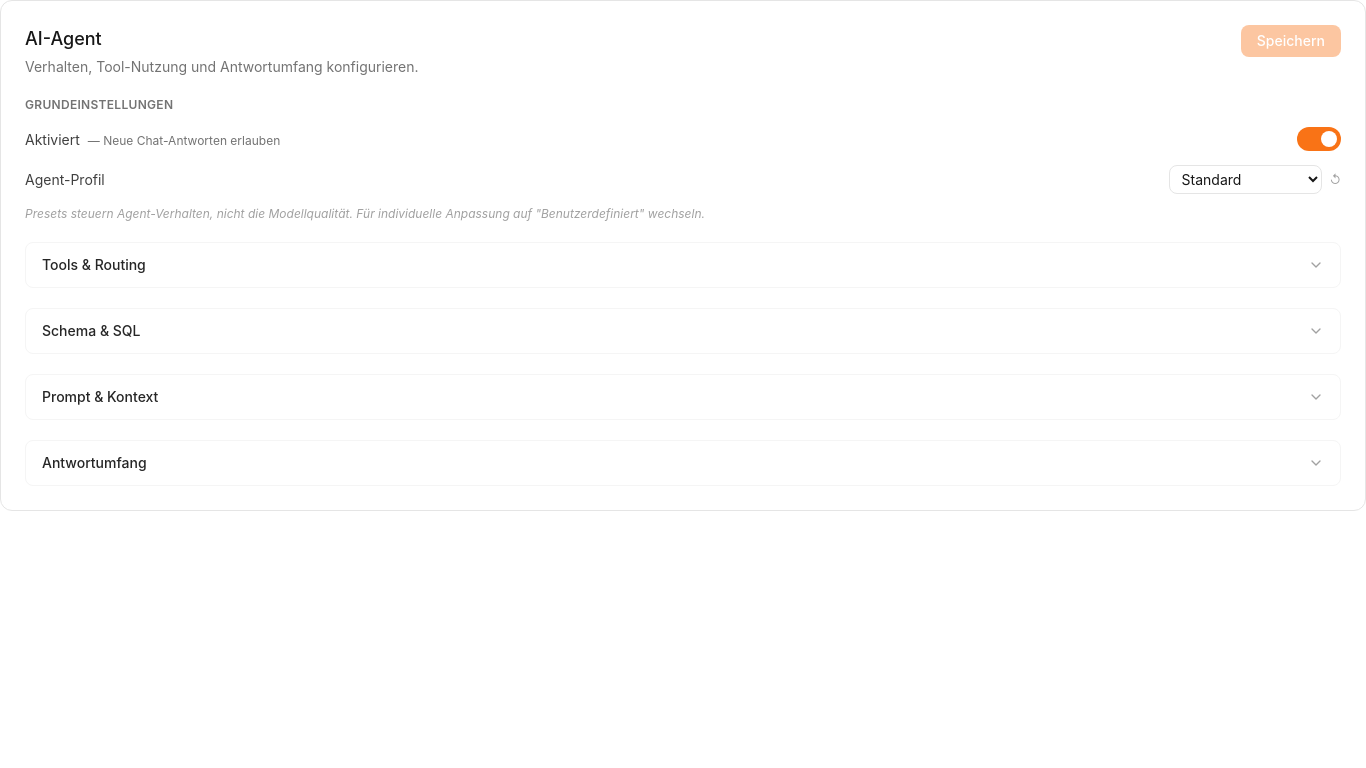
Scenario: ChatProfileSettings › loads preset defaults from the backend contract
This screenshot has width=1366, height=768.
Check: the heading "AI-Agent" is shown, box [25,28,102,49]
Step 1. Click the button "Tools & Routing" → coordinates (94, 264), box [26,243,1340,287]
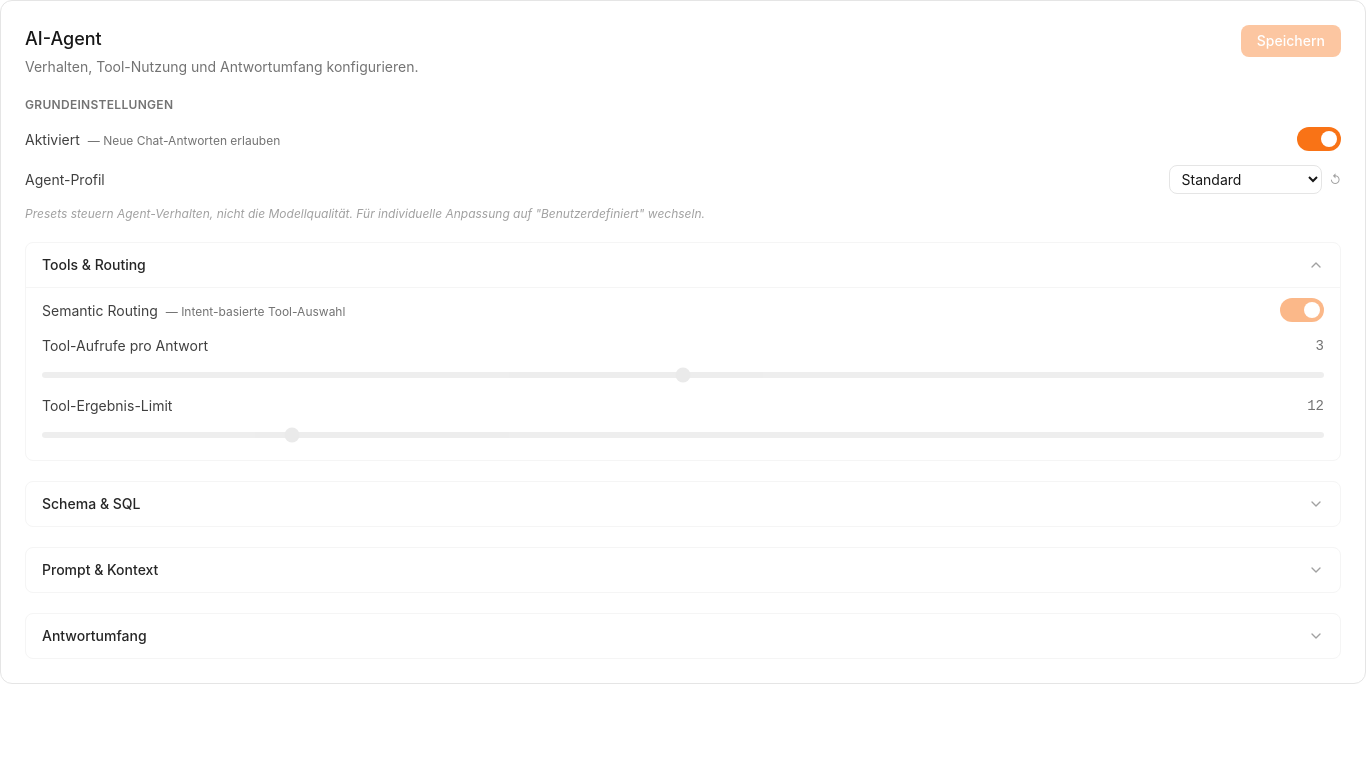
Check: the text "Tool-Aufrufe pro Antwort" is shown, box [42,337,208,354]
Check: the text "3" is shown, box [1316,338,1324,354]
Step 2. Click the button "Prompt & Kontext" → coordinates (100, 570), box [26,548,1340,592]
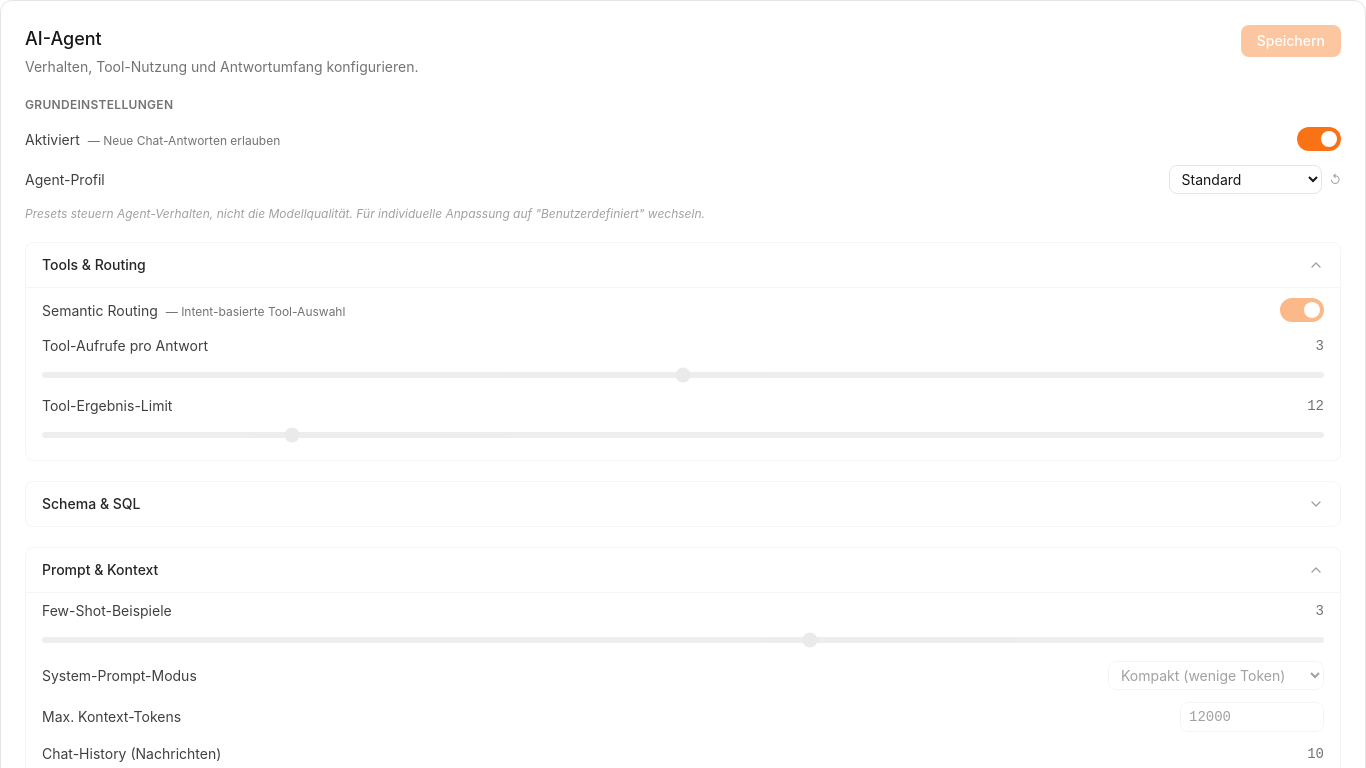
Check: the text "Chat-History (Nachrichten)" is shown, box [42,745,221,762]
Check: the text "10" is shown, box [1307,746,1324,762]
Check: the number field labelled "Max. Kontext-Tokens" holds "12000", box [1180,702,1324,732]
